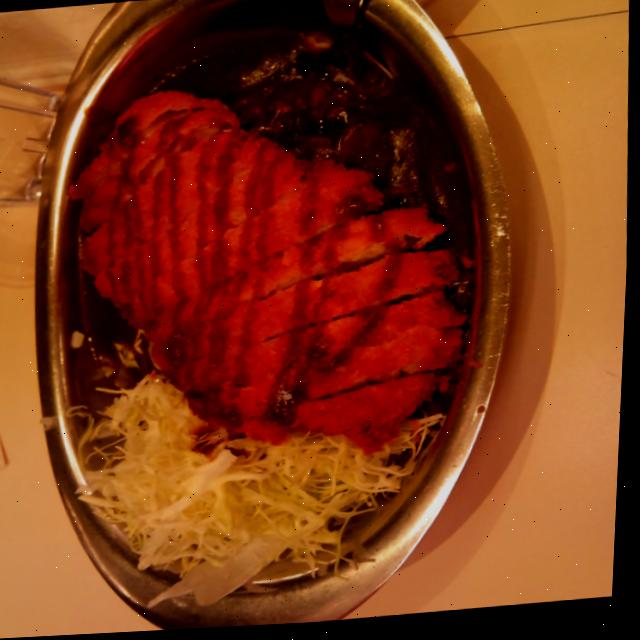猪肉菜式: (15, 0, 555, 638)
